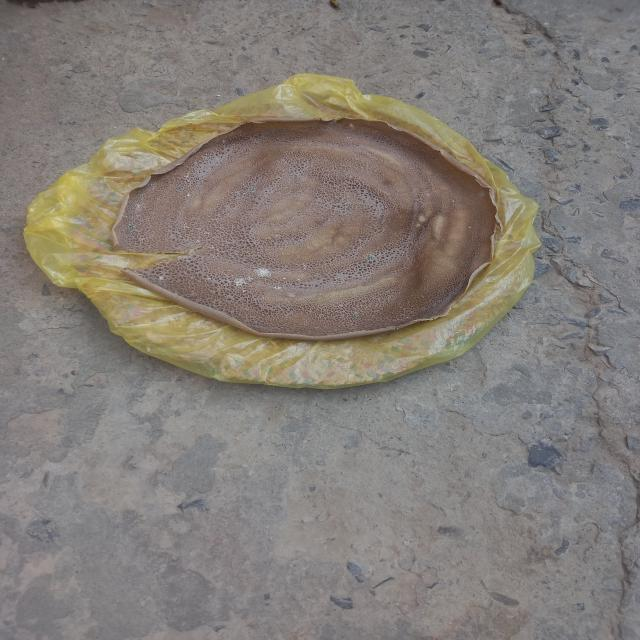injera_mold: (205, 276, 255, 292), (123, 192, 152, 218), (254, 266, 272, 277), (296, 262, 311, 272), (180, 220, 192, 232), (197, 230, 213, 238), (366, 253, 376, 261), (273, 285, 283, 290), (157, 276, 164, 280), (194, 239, 201, 243), (128, 225, 135, 229), (253, 140, 260, 144), (250, 187, 255, 192), (295, 277, 301, 281), (176, 186, 182, 190), (353, 313, 359, 317), (347, 136, 352, 140), (282, 276, 286, 280), (187, 193, 191, 197), (200, 182, 203, 186)
